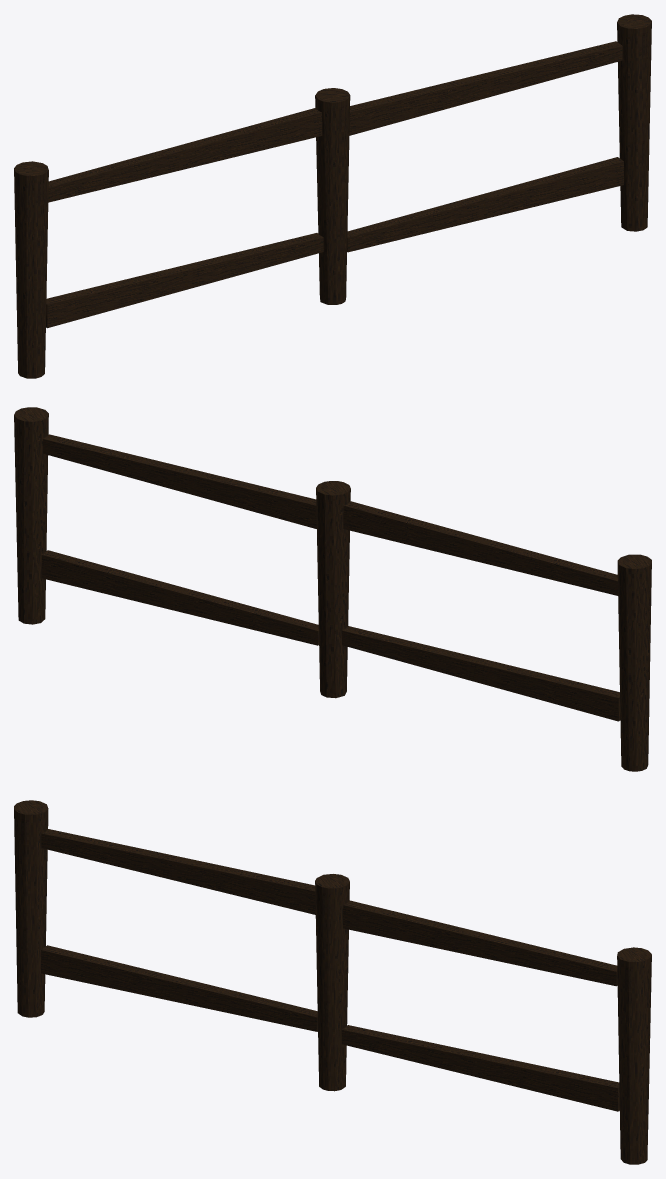
File: fence.fbx
3 renders of one model, top to bottom at view 1: azimuth 30°, elevation 25°; view 2: azimuth 150°, elevation 25°; view 3: azimuth 330°, elevation 25°, orthographic.
Parts seen in each view (by area): view 1: fence; view 2: fence; view 3: fence.
Part boxes in pixels (left/top/right/bottom): fence: left=14, top=14, right=651, bottom=378; fence: left=14, top=407, right=651, bottom=771; fence: left=14, top=800, right=651, bottom=1164.
Bounding box in the file's own units: 557 × 172 × 26.6.
1 material, 1 textured.
